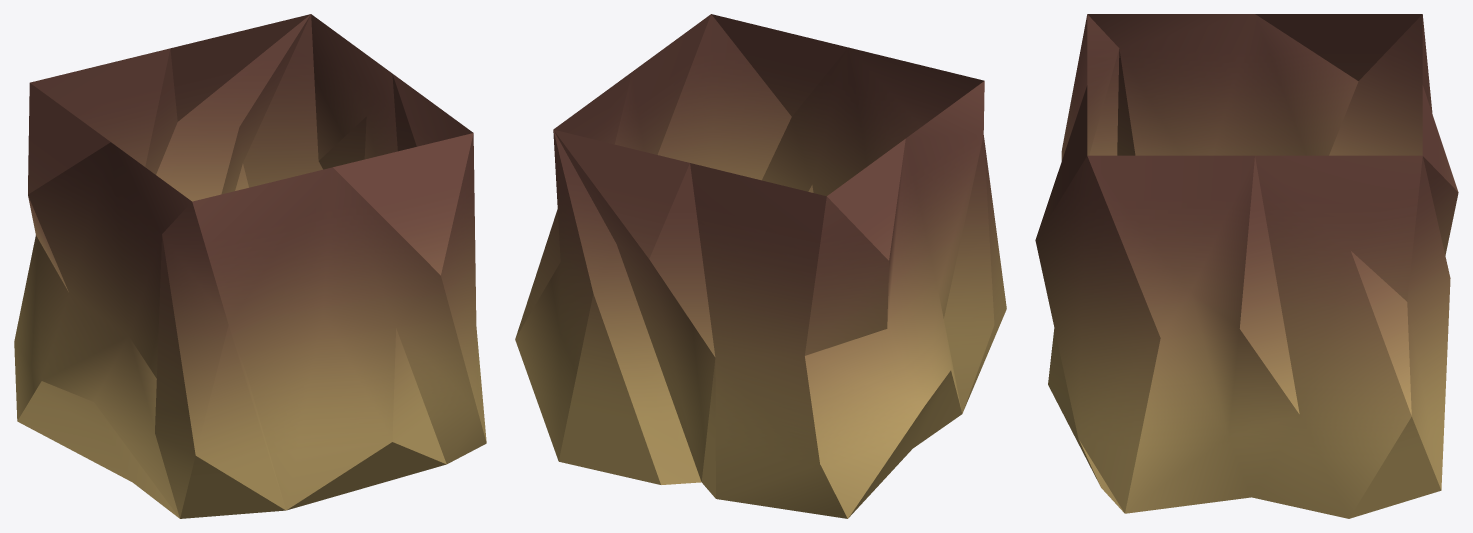
Rendered from Cliff2.fbx.
The picture shows the model from 3 angles, left to right: view 1: azimuth 30°, elevation 25°; view 2: azimuth 150°, elevation 25°; view 3: azimuth 270°, elevation 25°; orthographic projection. The views are drawn at different scales.
Visible parts, largest first — view 1: Cliff2; view 2: Cliff2; view 3: Cliff2.
Boxes of the visible parts, x1,y1,x2,y2 form: Cliff2: (14,14,486,518); Cliff2: (515,14,1006,518); Cliff2: (1035,14,1458,518).
Size of the model in its own units: 132 by 113 by 126.
